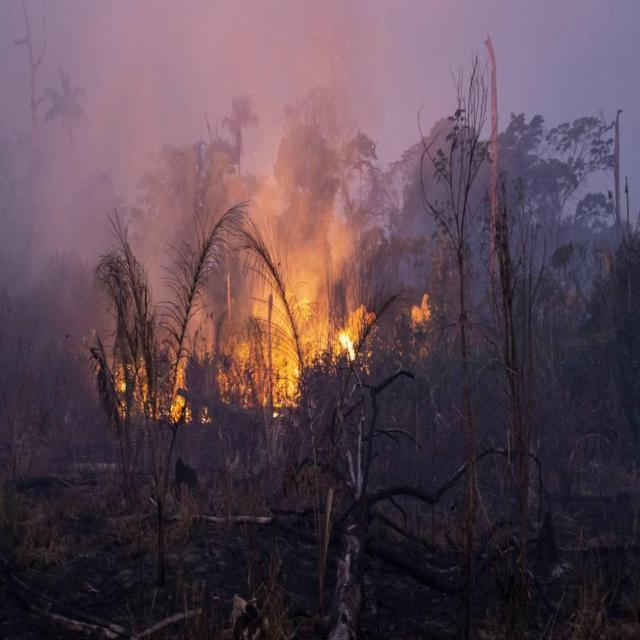Fire: (232, 298, 368, 406), (169, 358, 192, 420), (414, 292, 430, 323), (114, 367, 128, 393)
